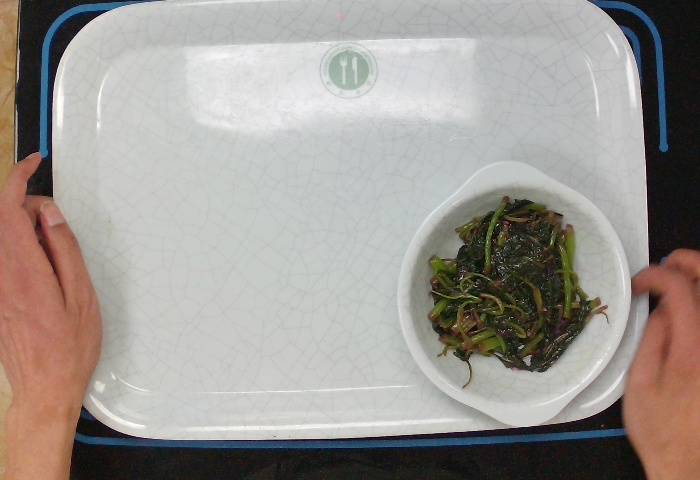JYsf-Shuang_Er_Wan: (392, 154, 636, 431)
